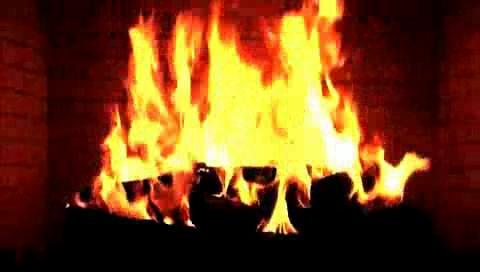fire: (95, 18, 415, 239)
